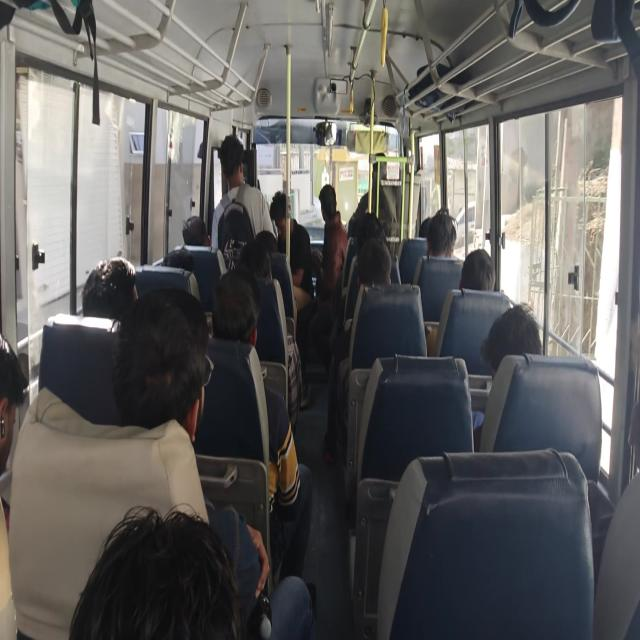person: (110, 517, 196, 640), (146, 314, 222, 426), (210, 267, 250, 354), (0, 356, 44, 434), (497, 307, 534, 372), (352, 215, 400, 261), (86, 262, 126, 308), (434, 216, 470, 265), (468, 250, 500, 300), (177, 207, 214, 250), (215, 137, 248, 185), (307, 169, 341, 212), (272, 182, 291, 235), (230, 243, 275, 264), (364, 247, 390, 282), (423, 208, 447, 240), (248, 223, 272, 250)
